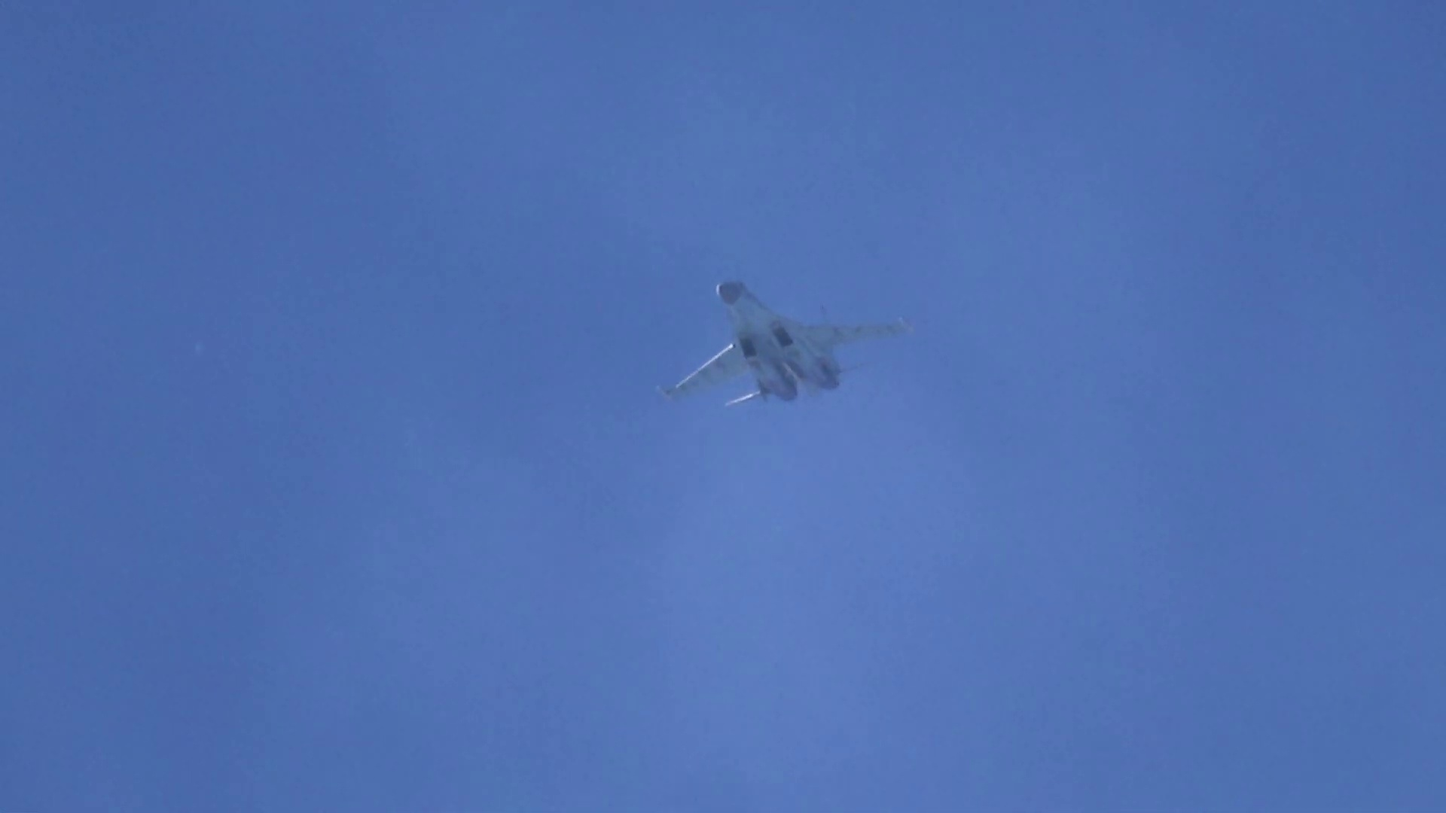Su35: (655, 280, 913, 409)
